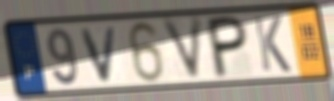6: (127, 19, 167, 85)
9: (45, 26, 80, 87)
K: (251, 15, 294, 75)
P: (206, 14, 250, 81)
V: (158, 13, 206, 85), (78, 24, 120, 85)
